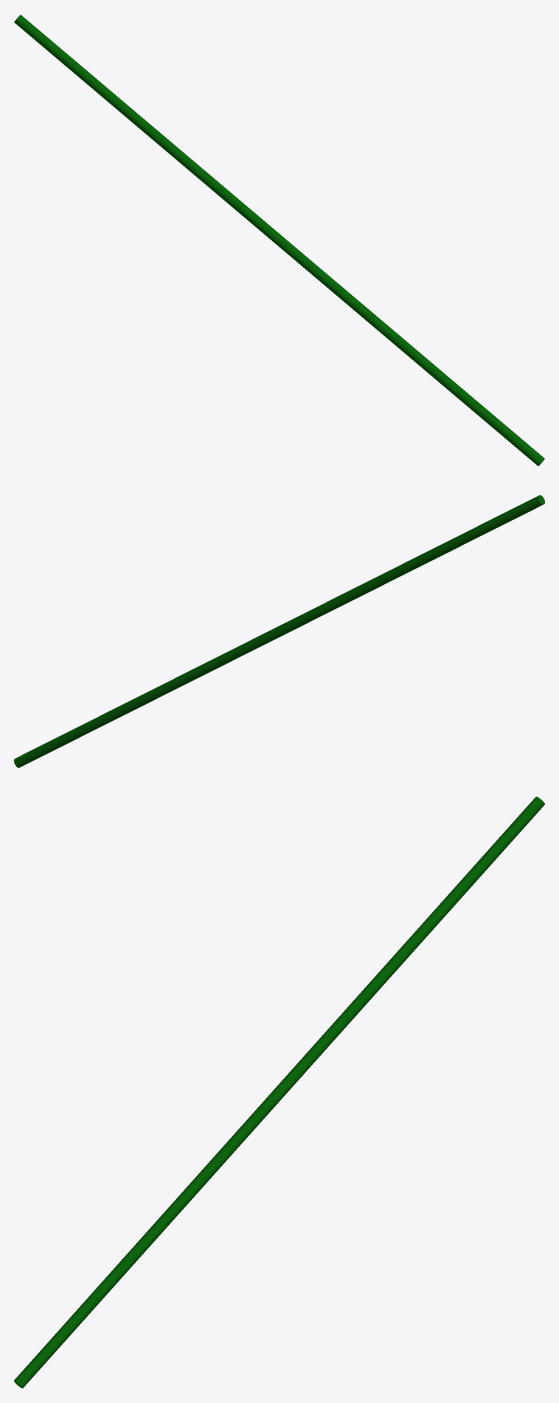
Rendered from Event_134295681_jet_0.fbx.
3 views of the same model, one above another, from view 1: azimuth 30°, elevation 25°; view 2: azimuth 210°, elevation 25°; view 3: azimuth 270°, elevation 25° (orthographic). The views are drawn at different scales.
Visible parts, largest first — view 1: Model; view 2: Model; view 3: Model.
Boxes of the visible parts, x1,y1,x2,y2 form: Model: [14, 14, 544, 466]; Model: [14, 495, 544, 767]; Model: [14, 796, 544, 1388].
Size of the model in its own units: 1.39 by 1.55 by 1.77.
